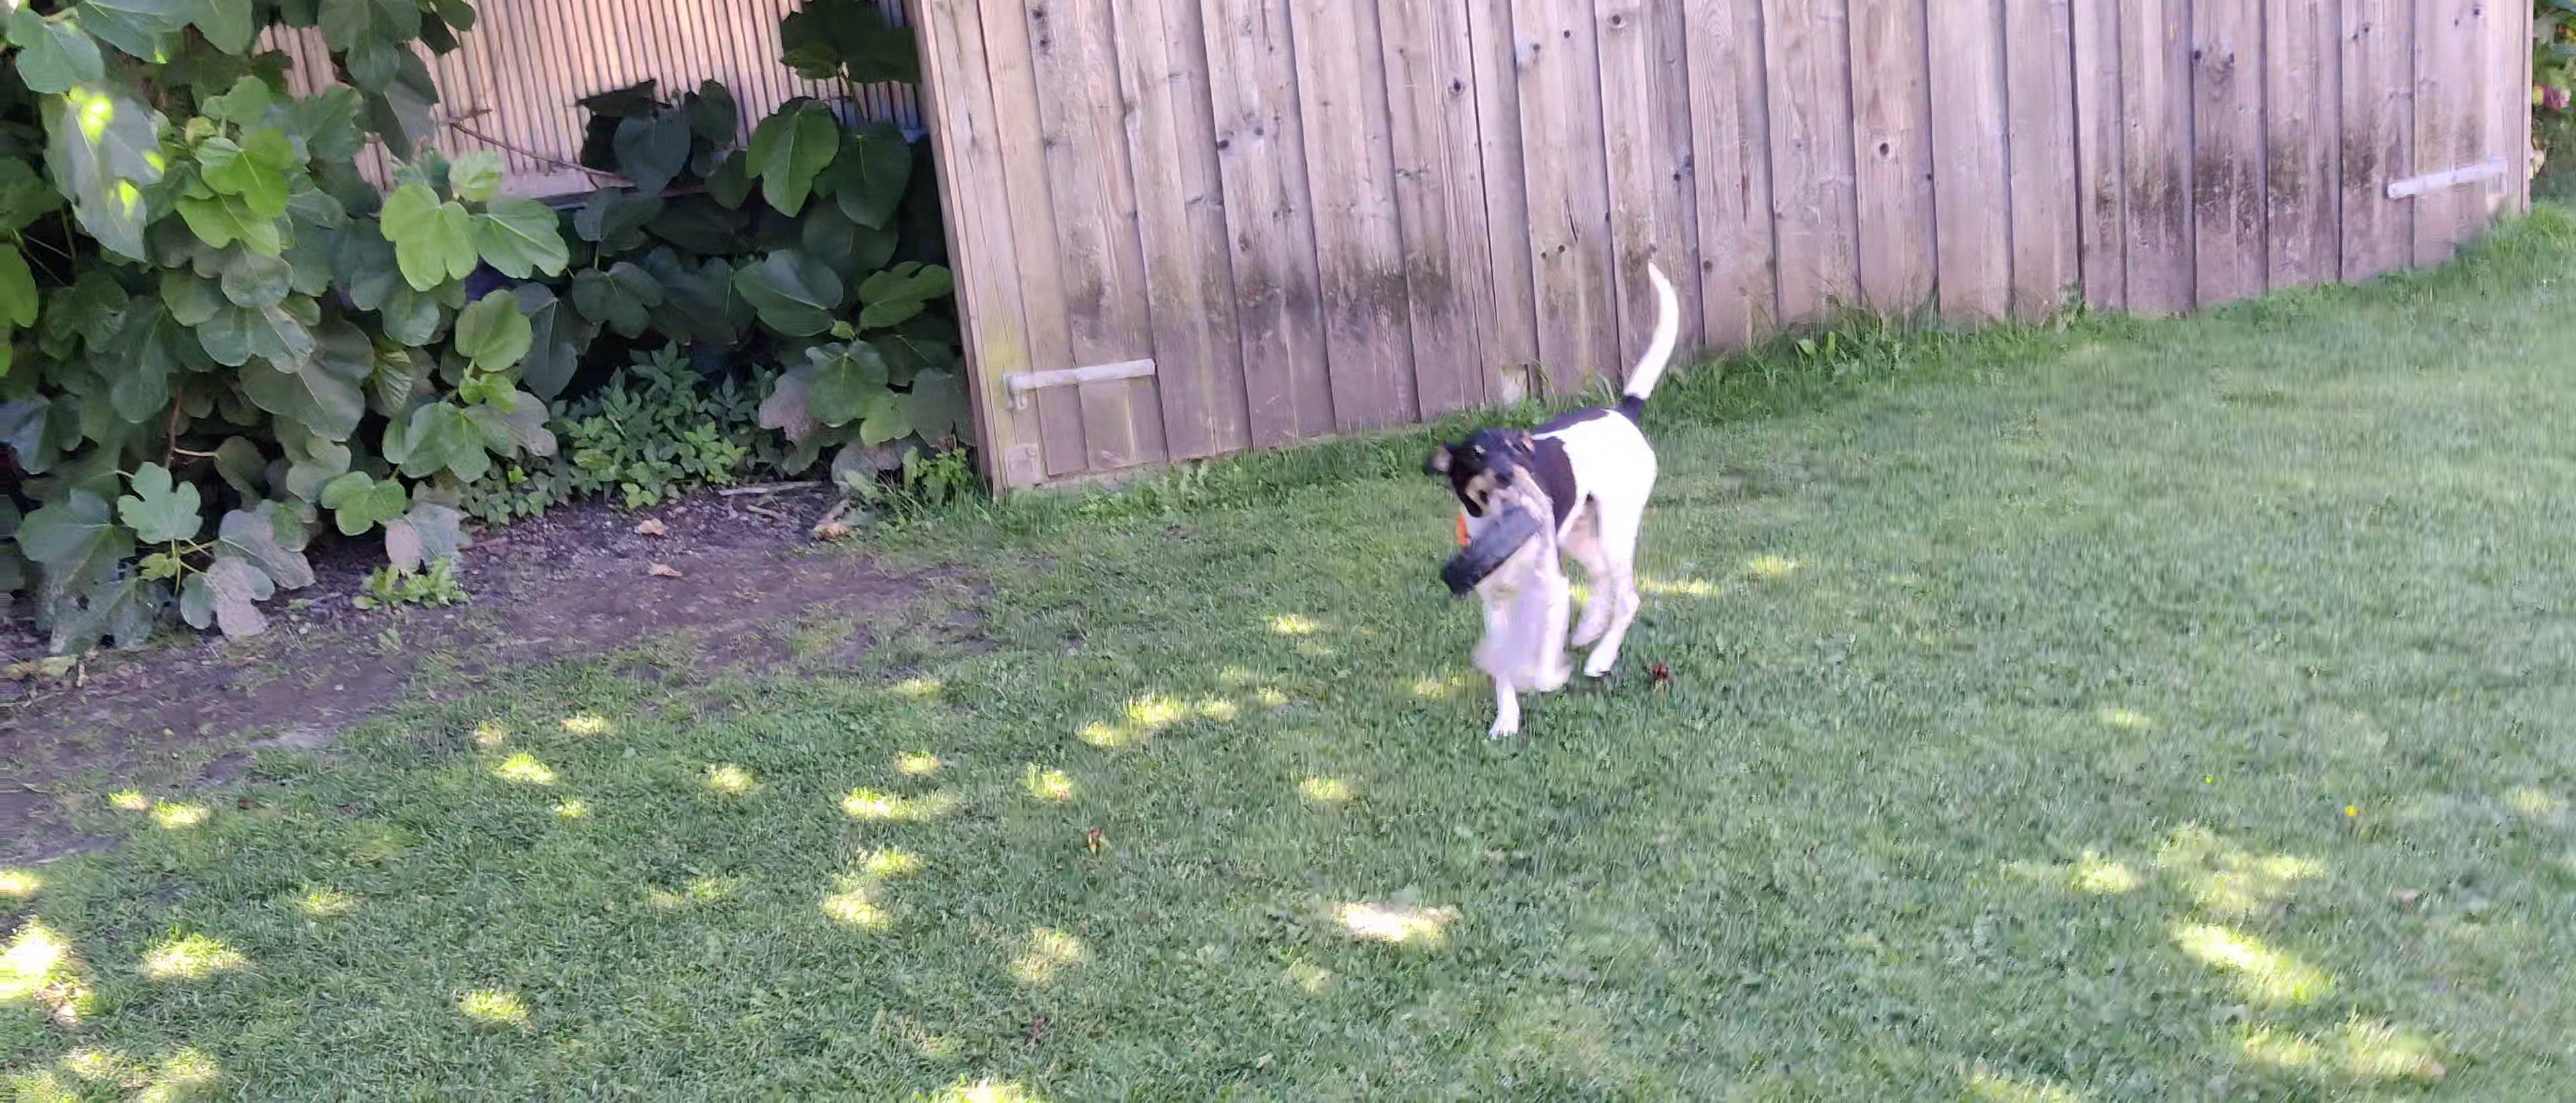Dog: (1416, 252, 1692, 751)
